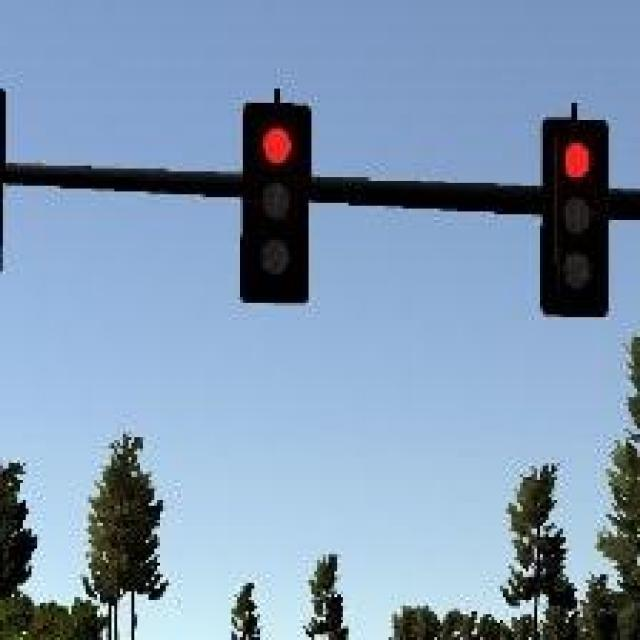red_light: (543, 120, 612, 317), (246, 103, 309, 300)
